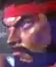ryu: (3, 0, 54, 66)
